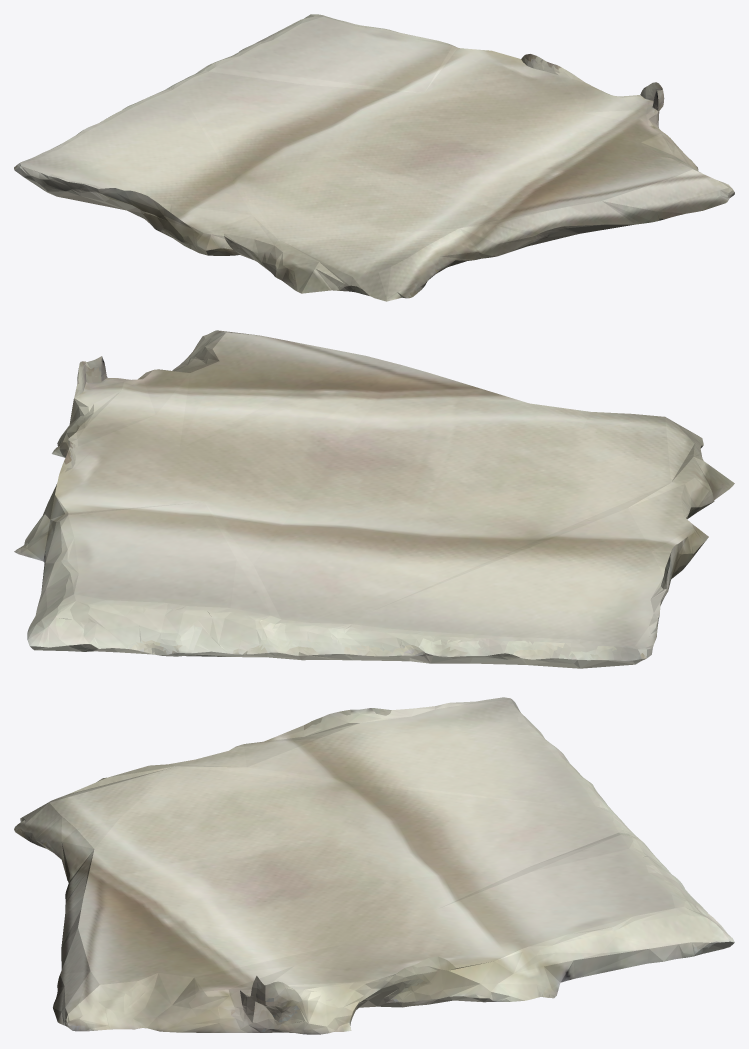
Rendered from Napkins.obj.
The picture shows the model from 3 angles, top to bottom: view 1: azimuth 30°, elevation 25°; view 2: azimuth 150°, elevation 25°; view 3: azimuth 270°, elevation 25°; orthographic projection. The views are drawn at different scales.
Size of the model in its own units: 100 by 8.57 by 97.22.
1 material, 1 textured.
